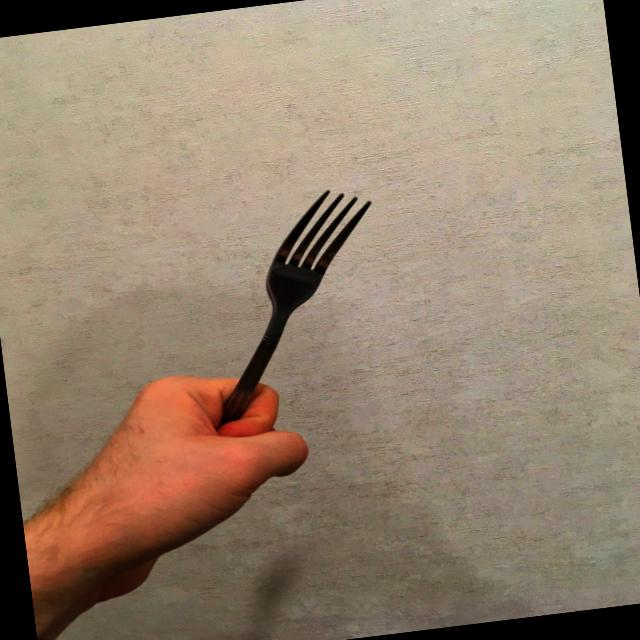fork: (158, 182, 404, 450)
